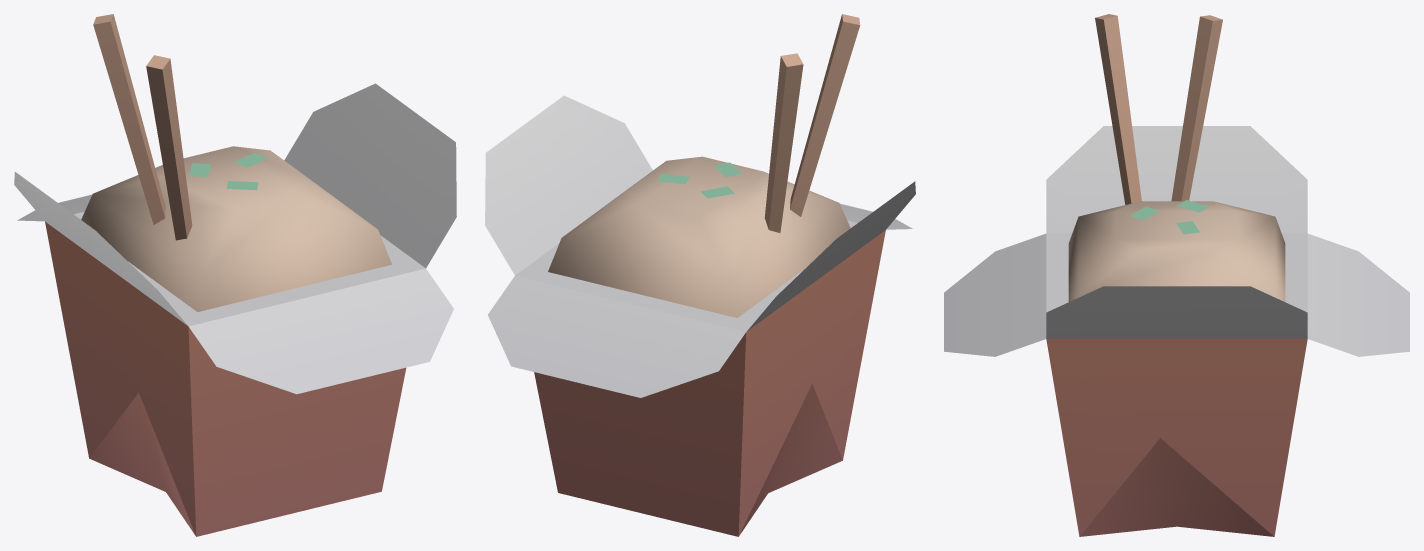
File: chinese.glb
3 renders of one model, left to right at view 1: azimuth 30°, elevation 25°; view 2: azimuth 150°, elevation 25°; view 3: azimuth 270°, elevation 25°, orthographic. The views are drawn at different scales.
Visible parts, largest first — view 1: chinese; view 2: chinese; view 3: chinese.
Boxes of the visible parts, x1,y1,x2,y2 form: chinese: [14, 14, 456, 536]; chinese: [485, 14, 915, 536]; chinese: [944, 14, 1409, 536].
Bounding box in the file's own units: 0.4538 × 0.5671 × 0.5575.
